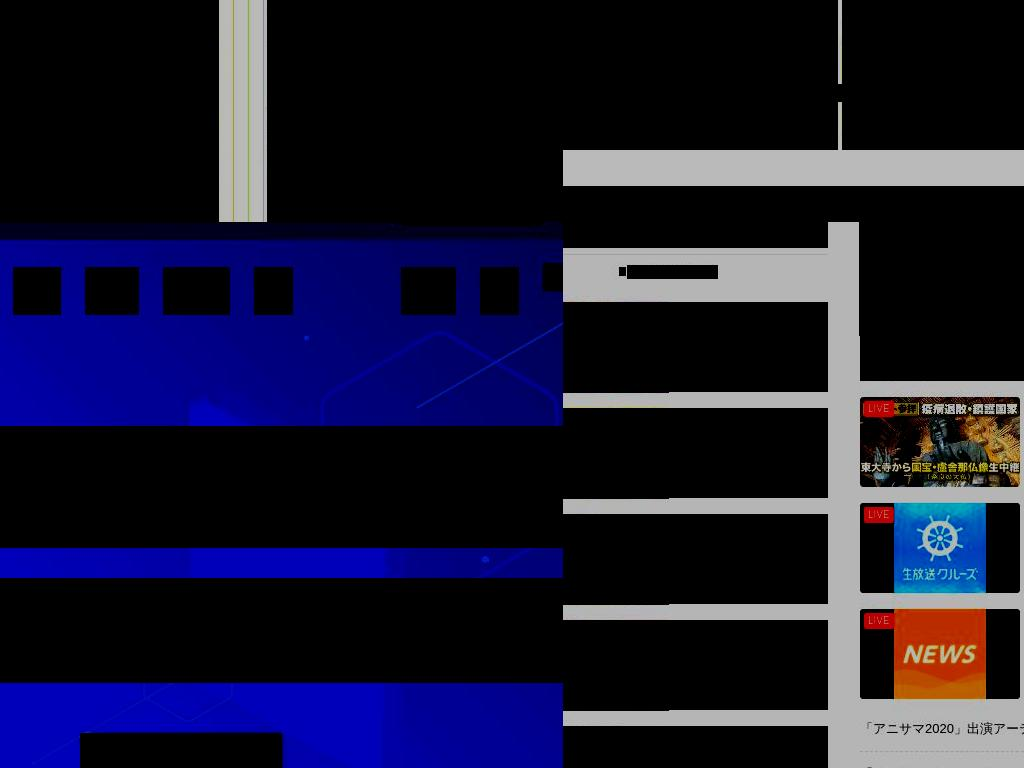button: (860, 222, 1024, 381), (563, 302, 828, 392), (563, 408, 828, 498), (563, 514, 828, 604), (563, 620, 828, 710), (860, 397, 1024, 487), (860, 503, 1024, 593), (860, 609, 1024, 699), (563, 726, 828, 768), (80, 733, 282, 768), (563, 84, 842, 102), (842, 84, 1024, 102), (163, 267, 230, 315), (401, 267, 456, 315), (85, 267, 139, 315), (13, 267, 61, 315), (254, 267, 293, 315), (480, 267, 519, 315), (543, 263, 563, 291)
heading: (0, 426, 563, 548), (563, 223, 828, 248)
image: (267, 0, 563, 222), (0, 0, 219, 222), (563, 38, 838, 150), (842, 38, 1024, 150), (859, 222, 1024, 336), (860, 397, 1021, 488), (860, 503, 1021, 594), (860, 609, 1021, 700), (563, 302, 669, 393), (563, 408, 669, 499), (563, 514, 669, 605), (563, 620, 669, 711), (563, 726, 669, 768), (619, 267, 626, 276)
link: (860, 721, 1024, 736), (763, 213, 836, 222)
text: (0, 578, 563, 683), (676, 424, 828, 482), (860, 343, 1024, 381), (676, 328, 828, 366), (676, 540, 828, 578), (676, 655, 828, 675), (676, 752, 828, 768), (627, 265, 718, 279), (864, 401, 894, 417), (864, 507, 894, 523), (864, 613, 894, 629)
